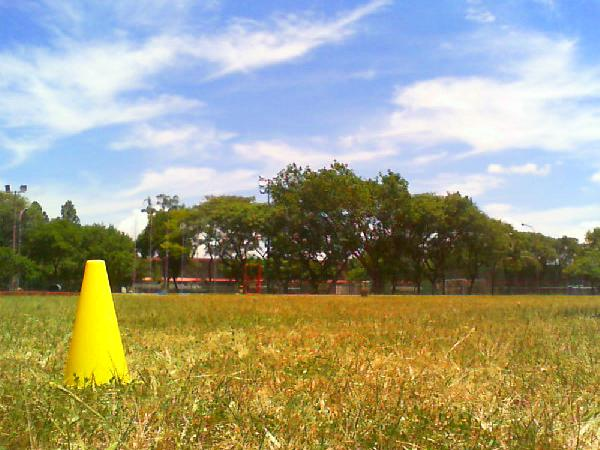0 cone: (63, 260, 133, 388)
